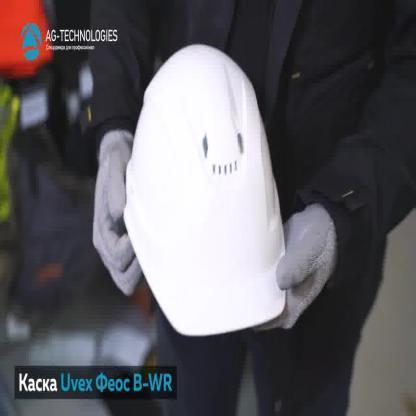gloves: (257, 203, 338, 333), (92, 129, 143, 299)
helmet: (122, 43, 288, 340)
